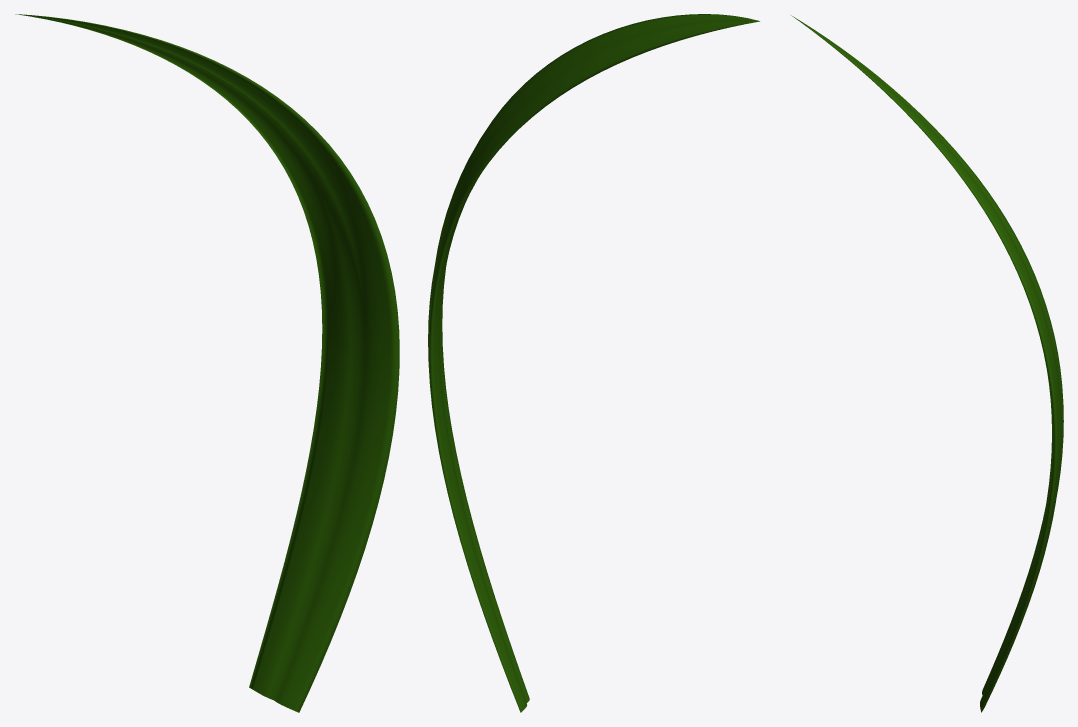
The picture shows the model from 3 angles, left to right: view 1: azimuth 30°, elevation 25°; view 2: azimuth 150°, elevation 25°; view 3: azimuth 330°, elevation 25°; orthographic projection. The views are drawn at different scales.
Visible parts, largest first — view 1: ТраекторияNurbs.004; view 2: ТраекторияNurbs.004; view 3: ТраекторияNurbs.004.
Boxes of the visible parts, left/top/right/bottom form: ТраекторияNurbs.004: left=15, top=14, right=399, bottom=712; ТраекторияNurbs.004: left=428, top=14, right=759, bottom=712; ТраекторияNurbs.004: left=791, top=15, right=1063, bottom=712.
Size of the model in its own units: 141 by 285 by 29.84.
